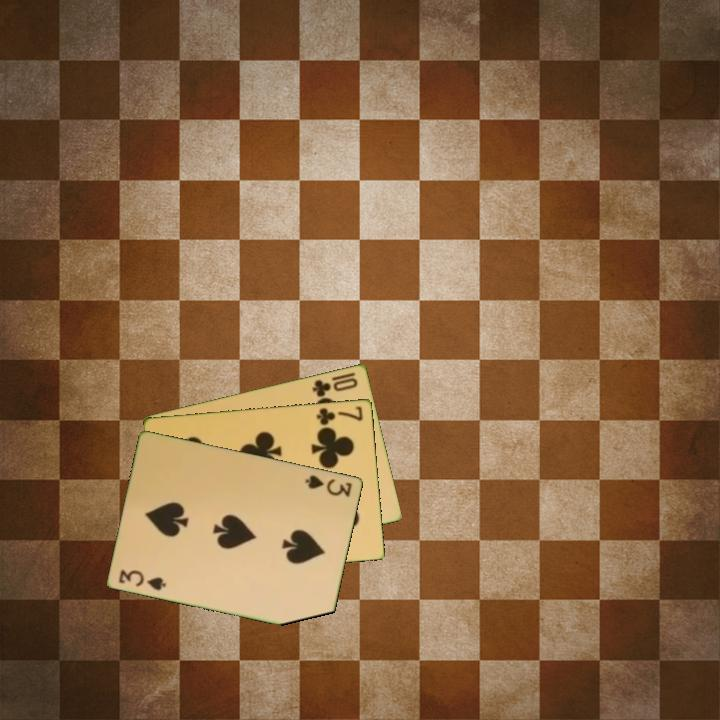10c: (309, 374, 361, 400)
3s: (115, 565, 169, 593), (302, 471, 355, 499)
7c: (313, 402, 366, 428)
